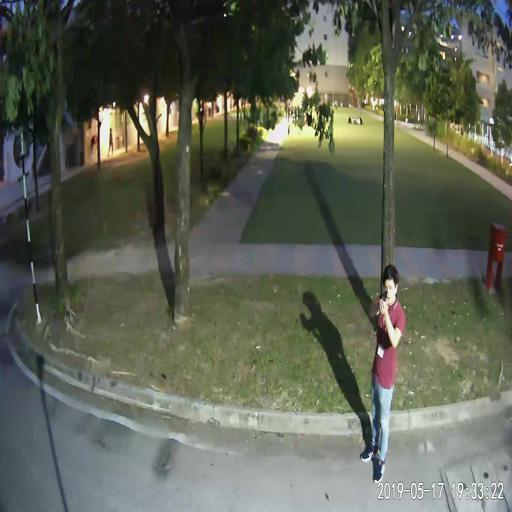Handgun: (380, 289, 387, 311)
